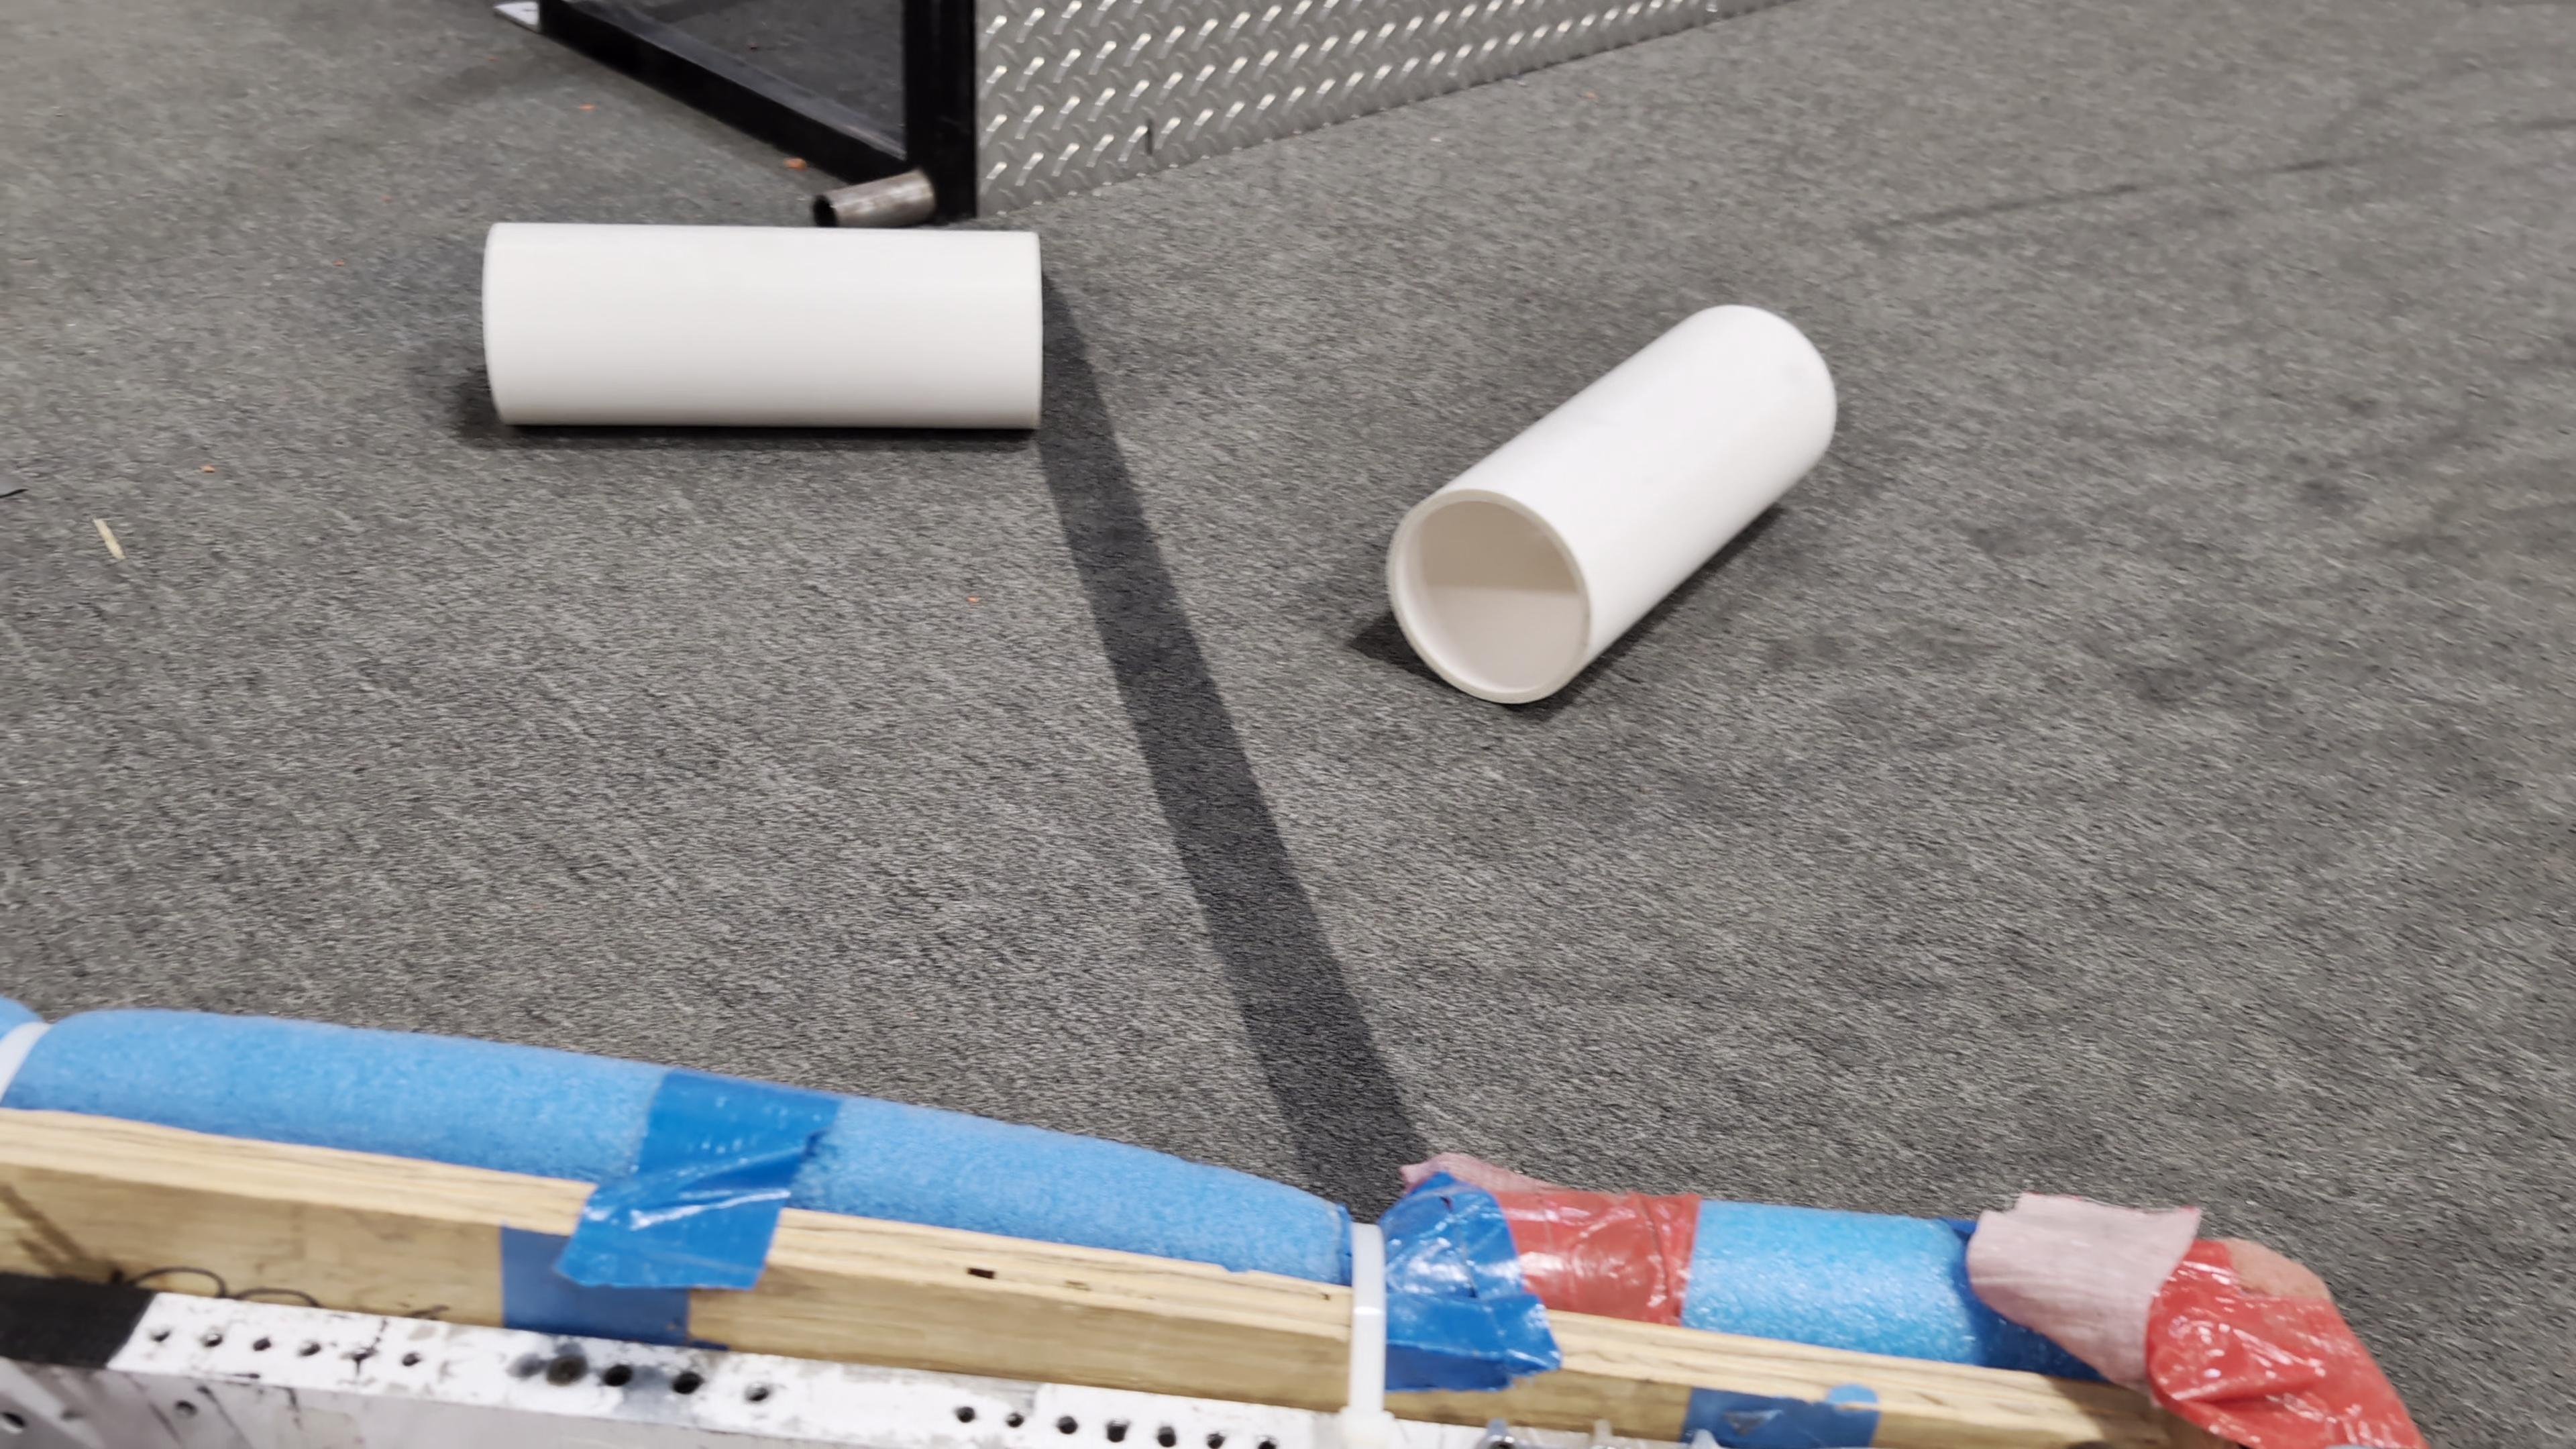coral: (1385, 297, 1840, 704), (483, 216, 1047, 430)
